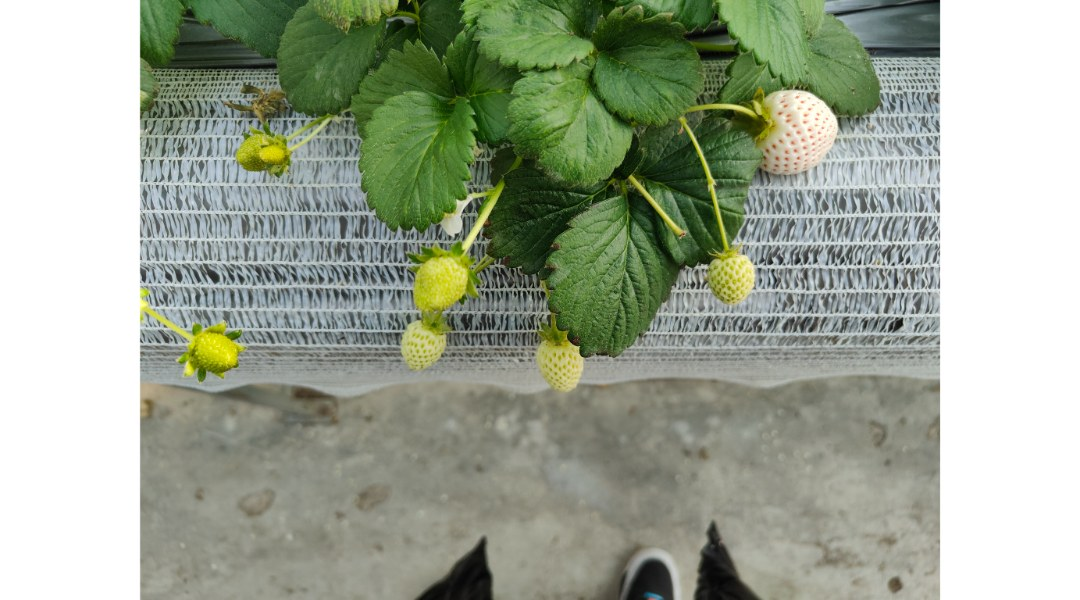berry: (750, 82, 841, 180), (398, 237, 483, 313), (522, 318, 591, 399), (699, 229, 768, 307), (395, 306, 459, 382), (179, 316, 245, 377), (222, 127, 292, 173), (260, 145, 287, 163)
strain: (680, 112, 724, 251), (457, 175, 508, 268), (627, 168, 688, 241), (684, 92, 758, 129)
